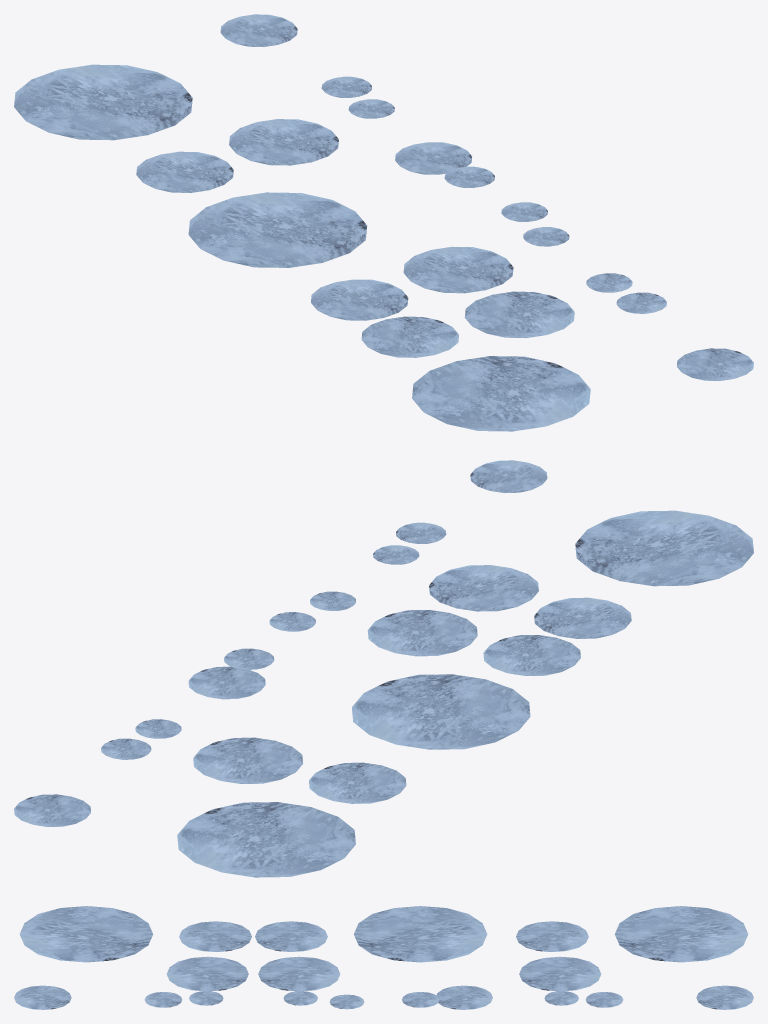
The model's file is Estanques.obj.
3 views of the same model, one above another, from view 1: azimuth 30°, elevation 25°; view 2: azimuth 150°, elevation 25°; view 3: azimuth 270°, elevation 25° (orthographic). The views are drawn at different scales.
Parts seen in each view (by area): view 1: Estanque.009_Plane.017, Estanque.006_Plane.068, Estanque.018_Plane.060, Estanque.017_Plane.059, Estanque.010_Plane.018, Estanque.005_Plane.067, Estanque.007_Plane.069, Estanque.008_Plane.015, Estanque_Plane.062, Estanque.016_Plane.054, Estanque.011_Plane.019, Estanque.004_Plane.066 (+7 smaller); view 2: Estanque.006_Plane.068, Estanque.018_Plane.060, Estanque.009_Plane.017, Estanque.010_Plane.018, Estanque.017_Plane.059, Estanque.005_Plane.067, Estanque_Plane.062, Estanque.008_Plane.015, Estanque.007_Plane.069, Estanque.011_Plane.019, Estanque.016_Plane.054, Estanque.004_Plane.066 (+7 smaller); view 3: Estanque.006_Plane.068, Estanque.009_Plane.017, Estanque.018_Plane.060, Estanque.010_Plane.018, Estanque.017_Plane.059, Estanque.005_Plane.067, Estanque.008_Plane.015, Estanque_Plane.062, Estanque.007_Plane.069, Estanque.011_Plane.019, Estanque.016_Plane.054, Estanque.004_Plane.066 (+7 smaller).
Part boxes in pixels (<box>): Estanque.009_Plane.017: <box>412,356,590,431</box>; Estanque.006_Plane.068: <box>188,192,367,267</box>; Estanque.018_Plane.060: <box>14,64,192,140</box>; Estanque.017_Plane.059: <box>229,119,338,165</box>; Estanque.010_Plane.018: <box>464,291,574,337</box>; Estanque.005_Plane.067: <box>403,246,513,293</box>; Estanque.007_Plane.069: <box>311,279,408,320</box>; Estanque.008_Plane.015: <box>361,316,458,357</box>; Estanque_Plane.062: <box>136,151,233,192</box>; Estanque.016_Plane.054: <box>220,14,297,46</box>; Estanque.011_Plane.019: <box>677,348,753,380</box>; Estanque.004_Plane.066: <box>395,142,472,174</box>; Estanque.006_Plane.068: <box>352,674,530,749</box>; Estanque.018_Plane.060: <box>177,802,355,877</box>; Estanque.009_Plane.017: <box>575,510,753,586</box>; Estanque.010_Plane.018: <box>429,565,538,611</box>; Estanque.017_Plane.059: <box>193,737,303,783</box>; Estanque.005_Plane.067: <box>367,610,477,656</box>; Estanque_Plane.062: <box>309,762,406,803</box>; Estanque.008_Plane.015: <box>534,597,631,638</box>; Estanque.007_Plane.069: <box>483,635,580,675</box>; Estanque.011_Plane.019: <box>470,460,547,492</box>; Estanque.016_Plane.054: <box>14,794,90,826</box>; Estanque.004_Plane.066: <box>188,666,265,699</box>; Estanque.006_Plane.068: <box>354,906,487,962</box>; Estanque.009_Plane.017: <box>19,906,153,962</box>; Estanque.018_Plane.060: <box>614,906,748,962</box>; Estanque.010_Plane.018: <box>166,956,248,991</box>; Estanque.017_Plane.059: <box>519,956,601,991</box>; Estanque.005_Plane.067: <box>258,956,340,991</box>; Estanque.008_Plane.015: <box>179,921,251,951</box>; Estanque_Plane.062: <box>516,921,588,951</box>; Estanque.007_Plane.069: <box>255,921,327,951</box>; Estanque.011_Plane.019: <box>14,985,71,1009</box>; Estanque.016_Plane.054: <box>696,985,753,1009</box>; Estanque.004_Plane.066: <box>436,985,492,1009</box>.
Size of the model in its own units: 2021 by 76.3 by 5859.
Materials: 19 (19 with a texture image).
